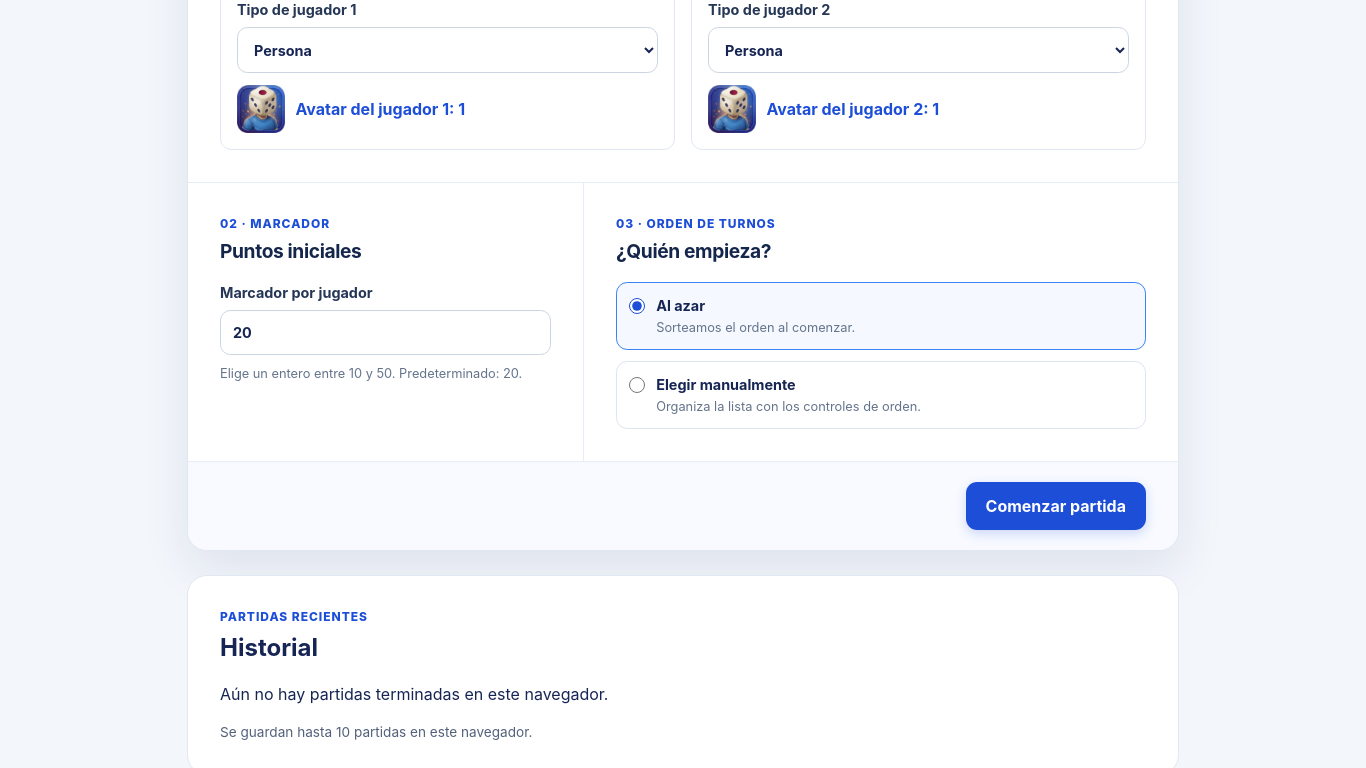
Test: App › cambia el idioma durante un turno sin perder dados seleccionados
The width and height of the screenshot is (1366, 768).
(page scrolled)
Click the radio button labelled "Elegir manualmente".
click(637, 385)  # box [629,377,645,393]
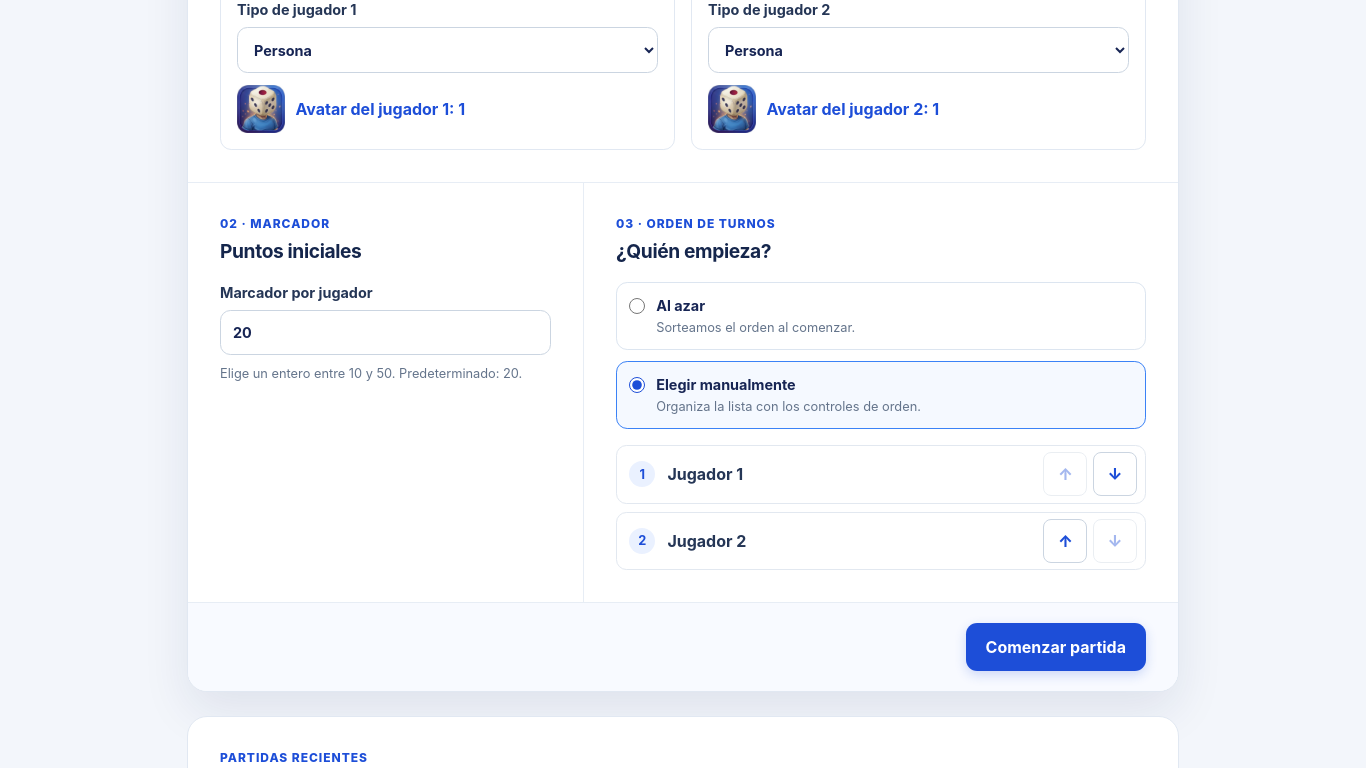
Click the button "Comenzar partida".
click(1056, 648)  # box [966,624,1146,672]
(page scrolled)
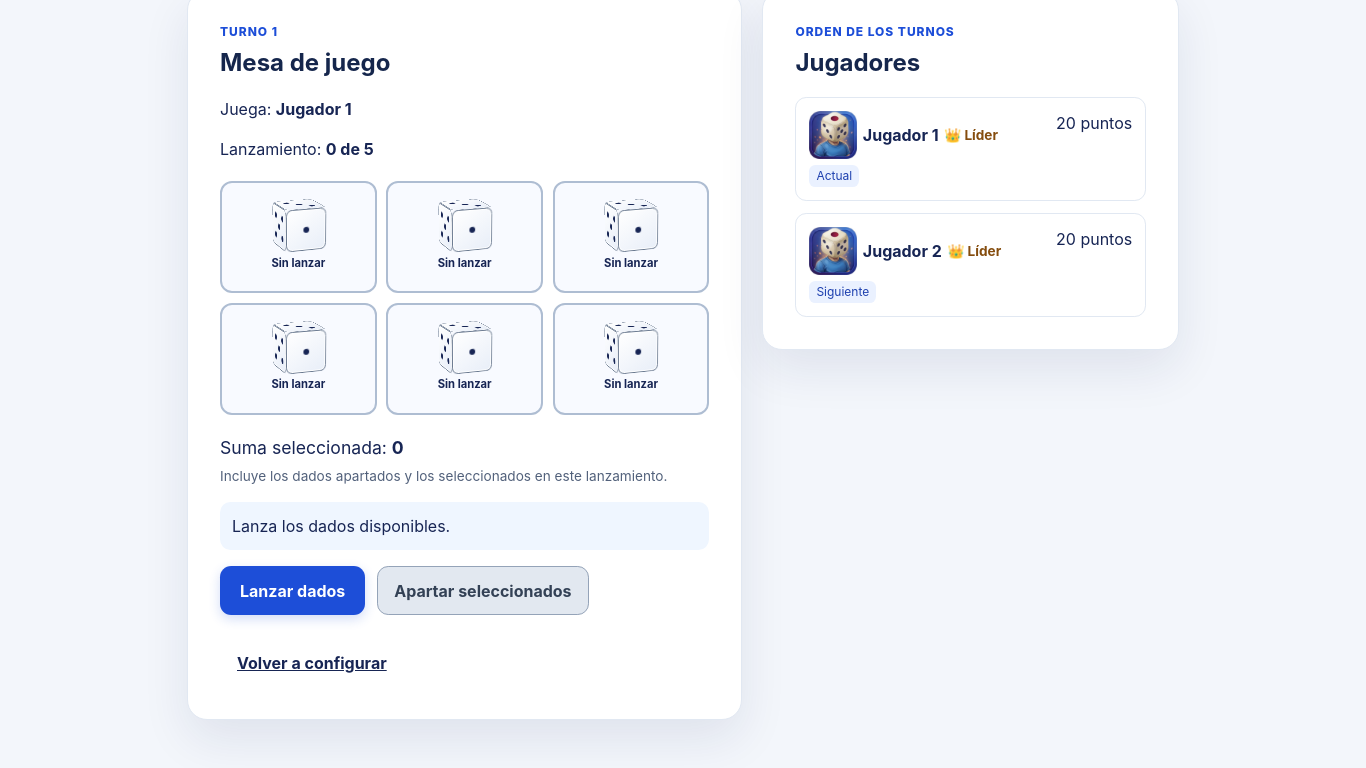
Click the button "Lanzar dados".
click(293, 590)  # box [220,566,365,615]
(page scrolled)
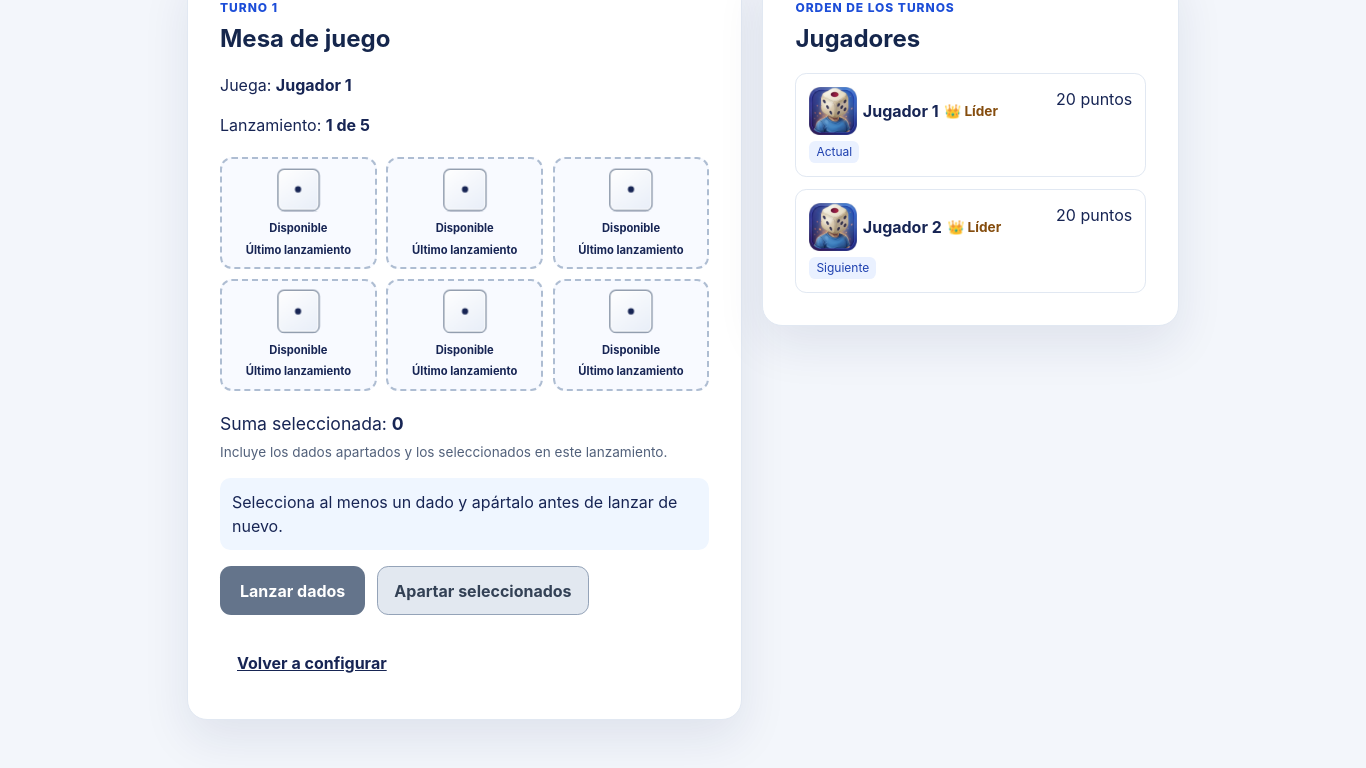
Click the button with aria-label "Dado 1:".
click(298, 213)  # box [220,157,377,269]
(page scrolled)
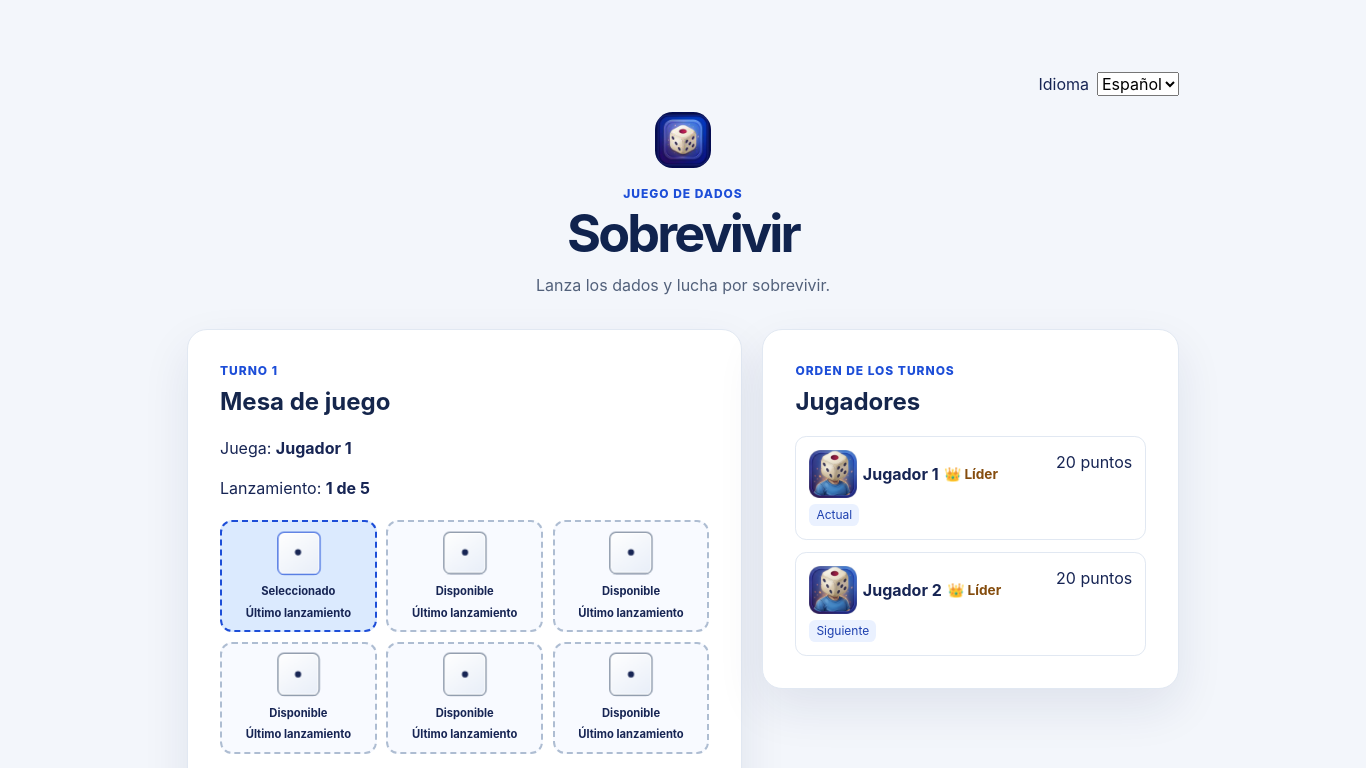
Select "English" in the dropdown labelled "Idioma" at (1138, 84), box [1097,72,1179,96]
(page scrolled)
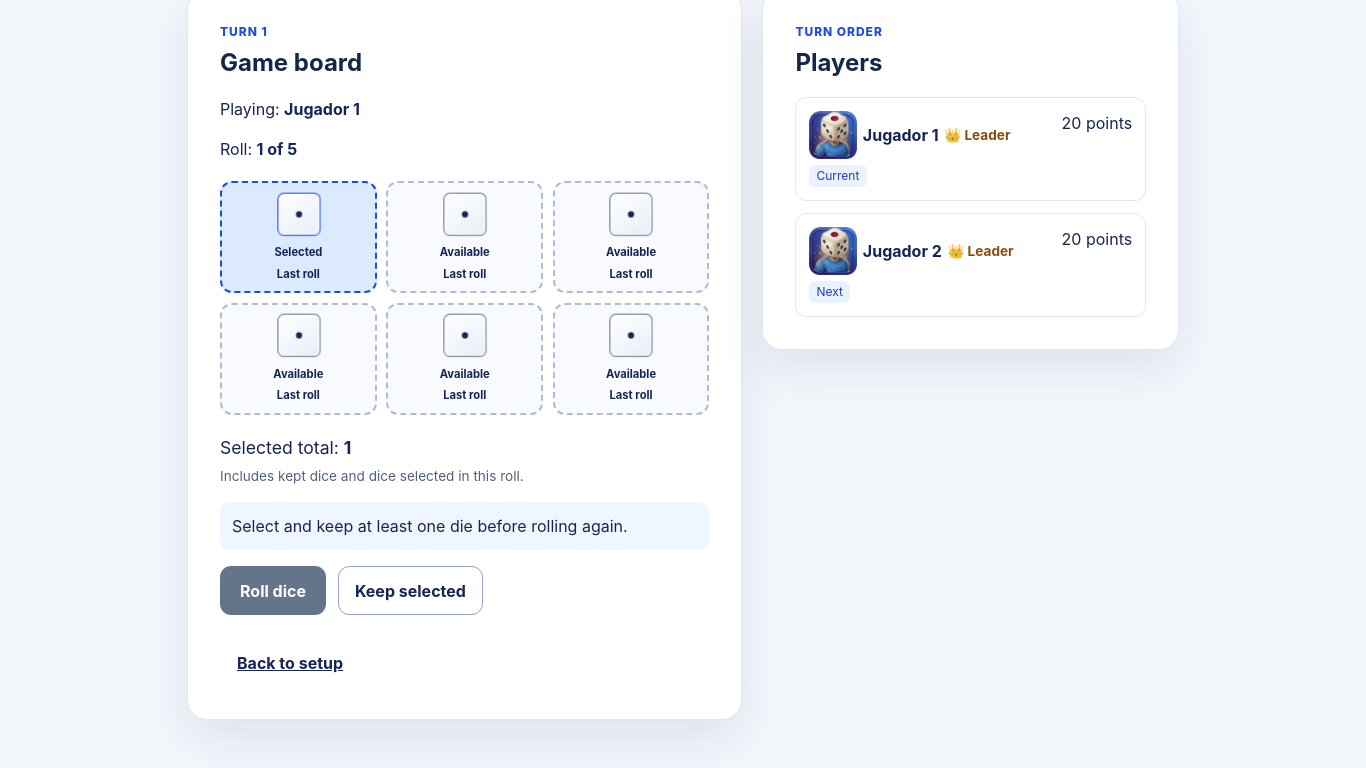
Result: the button "Keep selected" is enabled at [338,566,483,615]
Result: the heading "Game board" is shown at [220,48,362,77]
